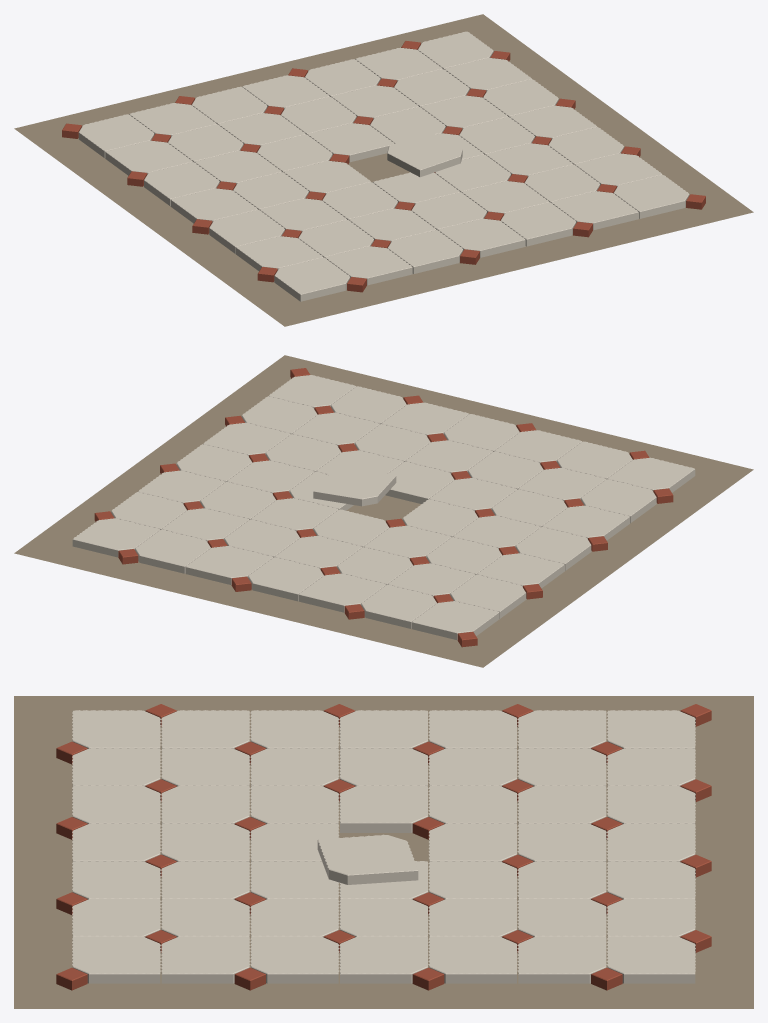
File: terilgan.glb
3 views of the same model, one above another, from view 1: azimuth 30°, elevation 25°; view 2: azimuth 150°, elevation 25°; view 3: azimuth 270°, elevation 25° (orthographic). The views are drawn at different scales.
Parts seen in each view (by area): view 1: qum, t.024, t, t.004, t.002, t.005, t.001, t.006, t.003, t.031, t.042, t.014 (+37 smaller); view 2: qum, t.024, t.042, t.046, t.044, t.048, t.047, t.043, t.045, t.035, t.021, t.007 (+38 smaller); view 3: qum, t.024, t.006, t.048, t.013, t.041, t.027, t.034, t.020, t.023, t.009, t.037 (+42 smaller).
Part boxes in pixels (bbox=[...]): qum: bbox=[14, 14, 753, 326]; t.024: bbox=[387, 132, 462, 177]; t: bbox=[274, 257, 350, 301]; t.004: bbox=[500, 202, 576, 246]; t.002: bbox=[387, 230, 463, 273]; t.005: bbox=[551, 191, 638, 230]; t.001: bbox=[325, 246, 412, 285]; t.006: bbox=[613, 175, 689, 218]; t.003: bbox=[438, 218, 525, 257]; t.031: bbox=[307, 123, 394, 162]; t.042: bbox=[78, 114, 154, 158]; t.014: bbox=[209, 210, 284, 253]; qum: bbox=[14, 355, 753, 667]; t.024: bbox=[313, 467, 396, 506]; t.042: bbox=[411, 601, 499, 640]; t.046: bbox=[185, 546, 273, 584]; t.044: bbox=[298, 573, 386, 612]; t.048: bbox=[72, 518, 160, 557]; t.047: bbox=[135, 529, 210, 573]; t.043: bbox=[361, 584, 436, 628]; t.045: bbox=[248, 557, 323, 601]; t.035: bbox=[450, 574, 526, 618]; t.021: bbox=[515, 527, 591, 570]; t.007: bbox=[581, 479, 656, 523]; qum: bbox=[14, 696, 753, 1008]; t.024: bbox=[317, 834, 418, 884]; t.006: bbox=[72, 936, 160, 983]; t.048: bbox=[607, 936, 695, 983]; t.013: bbox=[161, 936, 249, 983]; t.041: bbox=[518, 936, 606, 983]; t.027: bbox=[339, 936, 428, 983]; t.034: bbox=[428, 936, 517, 983]; t.020: bbox=[250, 936, 339, 983]; t.023: bbox=[339, 785, 428, 832]; t.009: bbox=[161, 785, 249, 824]; t.037: bbox=[518, 785, 606, 823].
Size of the model in its own units: 1.66 by 0.052 by 1.66.
